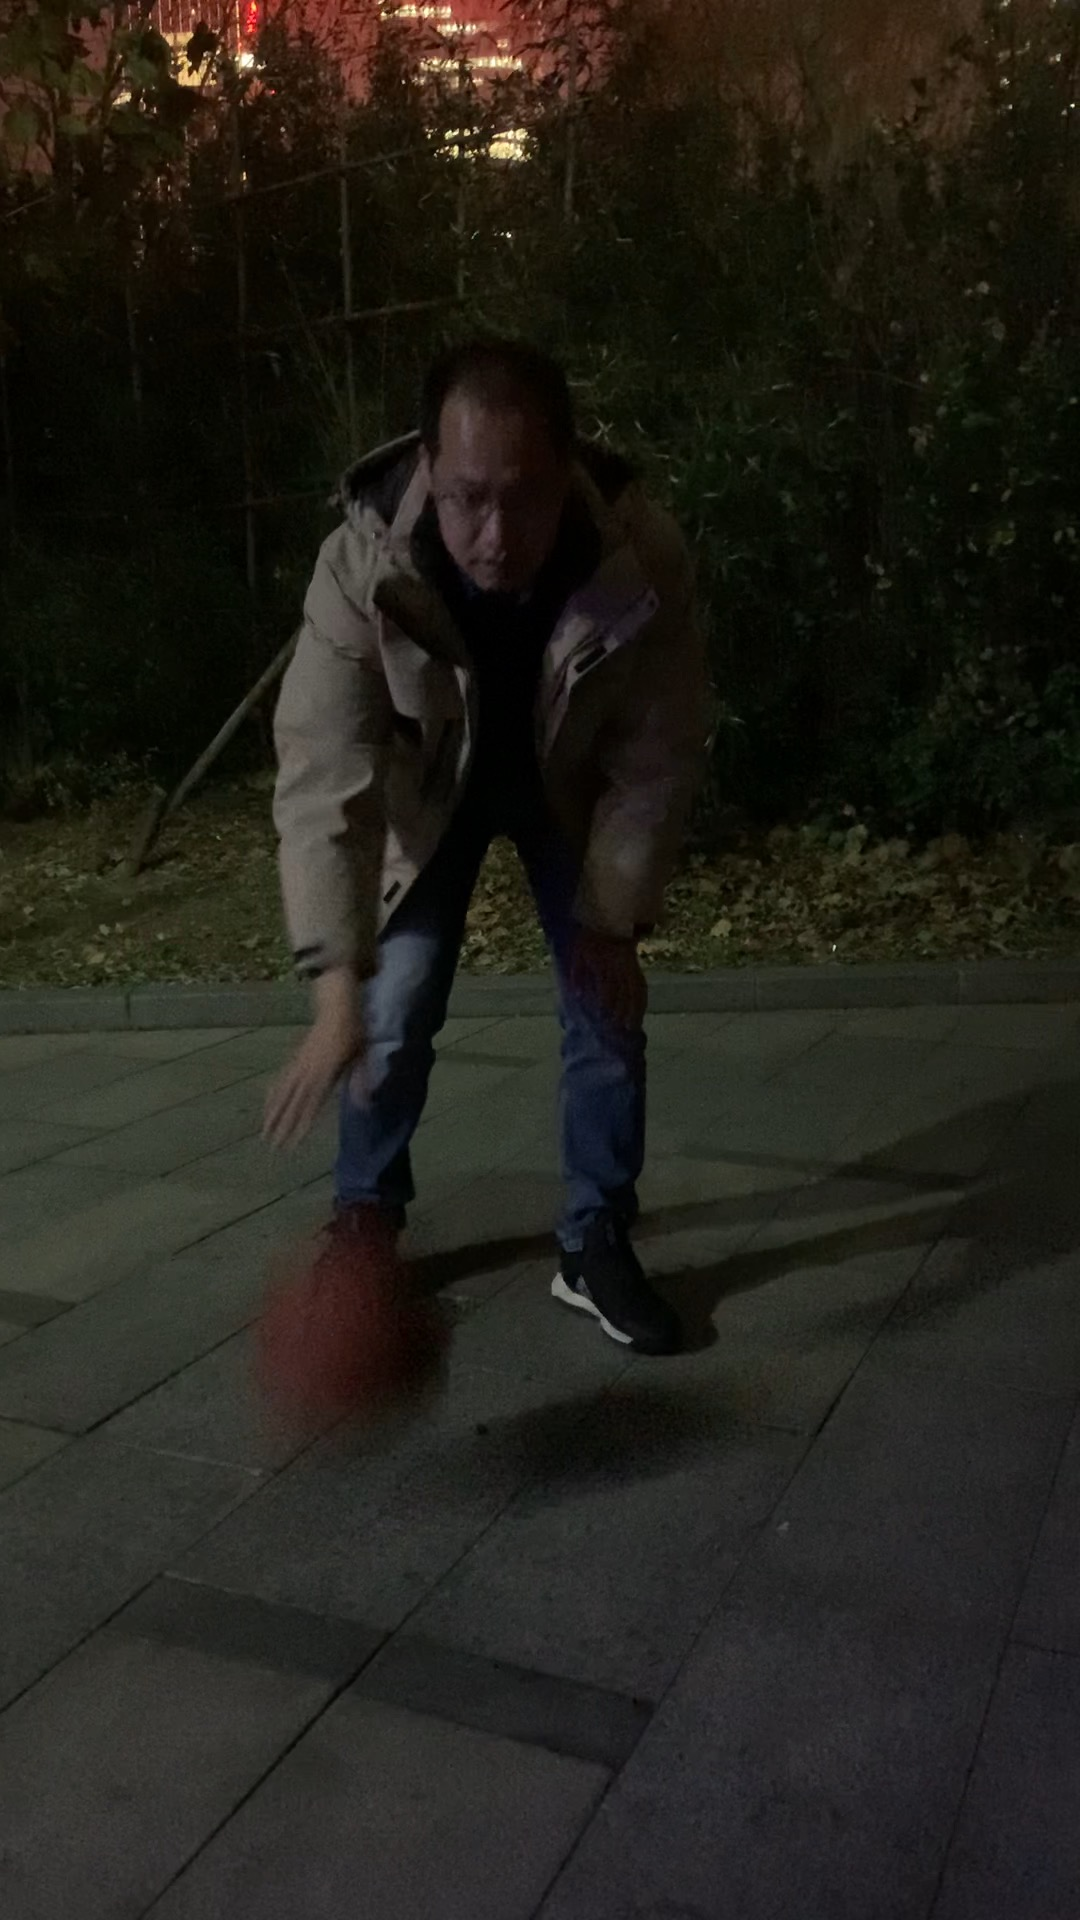ball: (256, 1245, 452, 1445)
